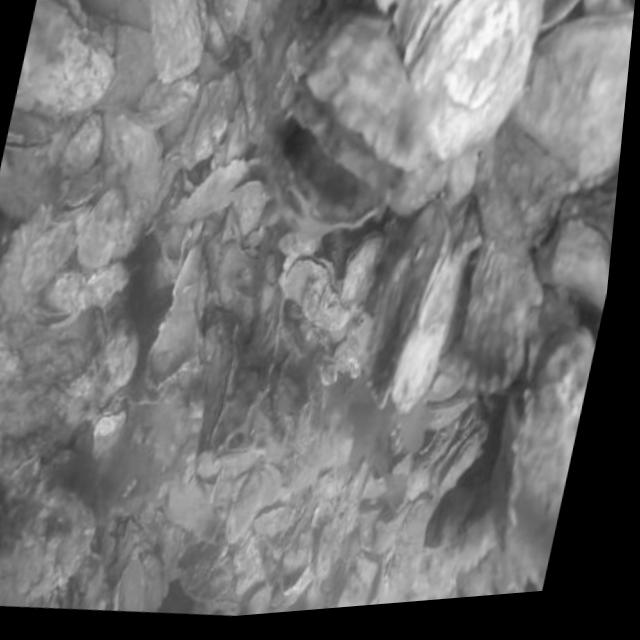Oyster-Closed: (13, 0, 118, 117), (533, 215, 613, 308), (0, 207, 56, 319), (283, 254, 352, 330), (431, 420, 489, 495), (341, 231, 383, 305), (62, 164, 104, 213), (4, 111, 54, 151)
Oyster-Indeterminate: (508, 331, 596, 592), (513, 13, 634, 185), (368, 200, 450, 404), (462, 242, 542, 390), (390, 256, 462, 412), (20, 206, 92, 294), (149, 0, 216, 84), (198, 343, 236, 464), (113, 108, 164, 198), (192, 74, 240, 159), (77, 185, 124, 270), (180, 80, 217, 172), (139, 76, 199, 128), (427, 486, 474, 548), (58, 114, 102, 177), (234, 472, 273, 529), (233, 180, 267, 237), (455, 197, 481, 258), (89, 263, 129, 301), (94, 412, 125, 457), (213, 0, 249, 30), (316, 522, 334, 580), (279, 236, 320, 255)
Oyster-Open: (266, 13, 418, 232), (381, 0, 543, 157), (33, 305, 77, 333)
